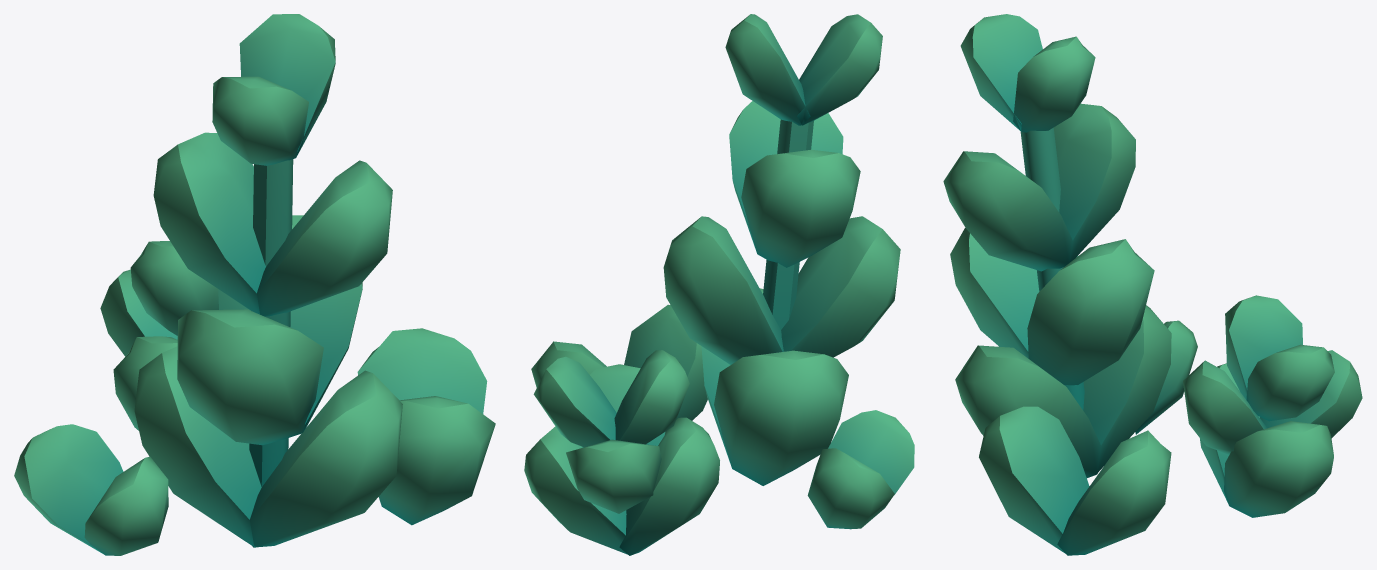
3 views of the same model, side by side, from view 1: azimuth 30°, elevation 25°; view 2: azimuth 150°, elevation 25°; view 3: azimuth 270°, elevation 25° (orthographic). The views are drawn at different scales.
Visible parts, largest first — view 1: LOD 1_13142735058292916171_864aa3741cb91814880953315ea2c192; view 2: LOD 1_13142735058292916171_864aa3741cb91814880953315ea2c192; view 3: LOD 1_13142735058292916171_864aa3741cb91814880953315ea2c192.
Boxes of the visible parts, left/top/right/bottom form: LOD 1_13142735058292916171_864aa3741cb91814880953315ea2c192: left=14, top=14, right=495, bottom=555; LOD 1_13142735058292916171_864aa3741cb91814880953315ea2c192: left=524, top=14, right=914, bottom=555; LOD 1_13142735058292916171_864aa3741cb91814880953315ea2c192: left=943, top=14, right=1362, bottom=555.
Size of the model in its own units: 0.6529 by 0.7995 by 0.6564.
